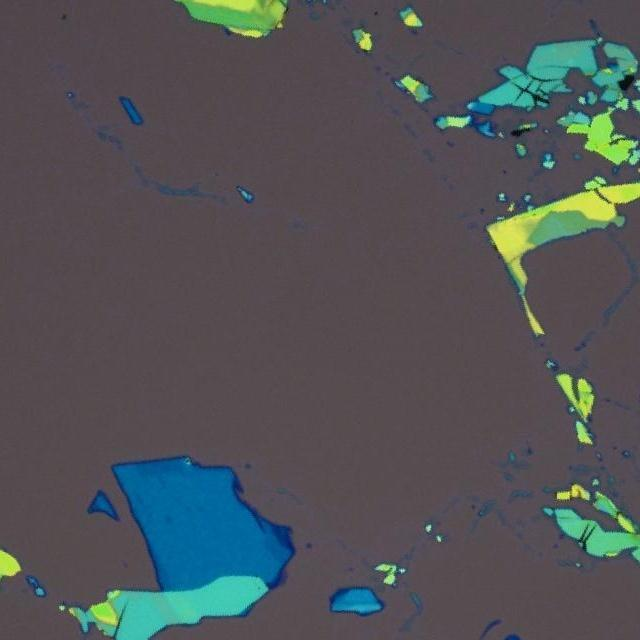monolayer-eWW4: (280, 568, 288, 587)
